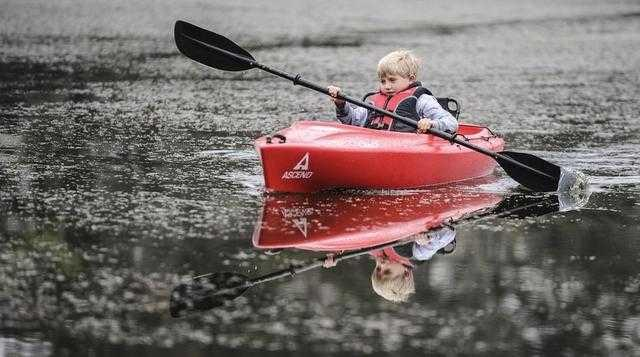kayak: (251, 117, 504, 193)
